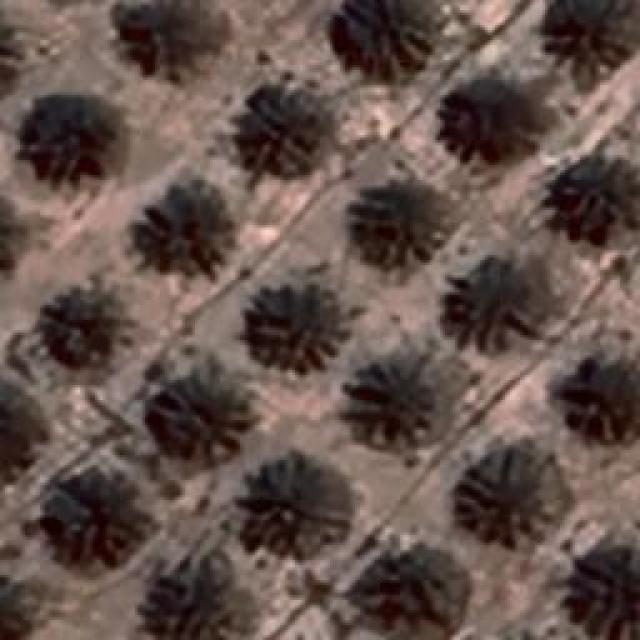PalmTree: (235, 450, 355, 555), (130, 182, 235, 280), (446, 72, 544, 166), (557, 355, 640, 462), (440, 260, 535, 352), (248, 285, 350, 370), (32, 102, 128, 190), (342, 174, 446, 254), (342, 358, 438, 440), (56, 475, 144, 563), (238, 80, 324, 168), (41, 284, 131, 368), (335, 0, 430, 78), (161, 385, 251, 463), (355, 556, 450, 629), (458, 458, 550, 532), (559, 151, 629, 239), (155, 580, 255, 640), (130, 1, 214, 69), (574, 550, 638, 638), (545, 0, 635, 62), (0, 380, 50, 486), (0, 6, 31, 100), (0, 189, 30, 282), (0, 575, 42, 640)
